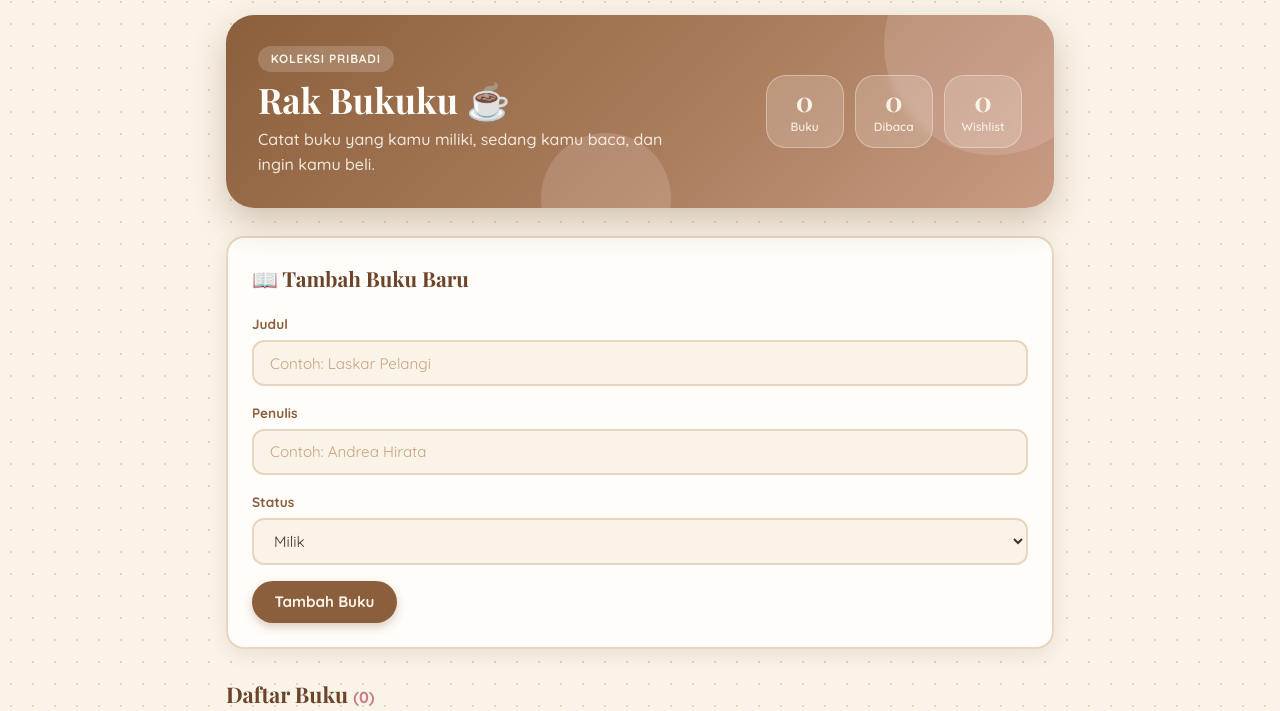
Test: Halaman Home (integrasi) › menghapus buku setelah konfirmasi di dialog
Type "Akan Dihapus" into the field labelled "Judul" at (640, 363), box [252, 340, 1028, 386]
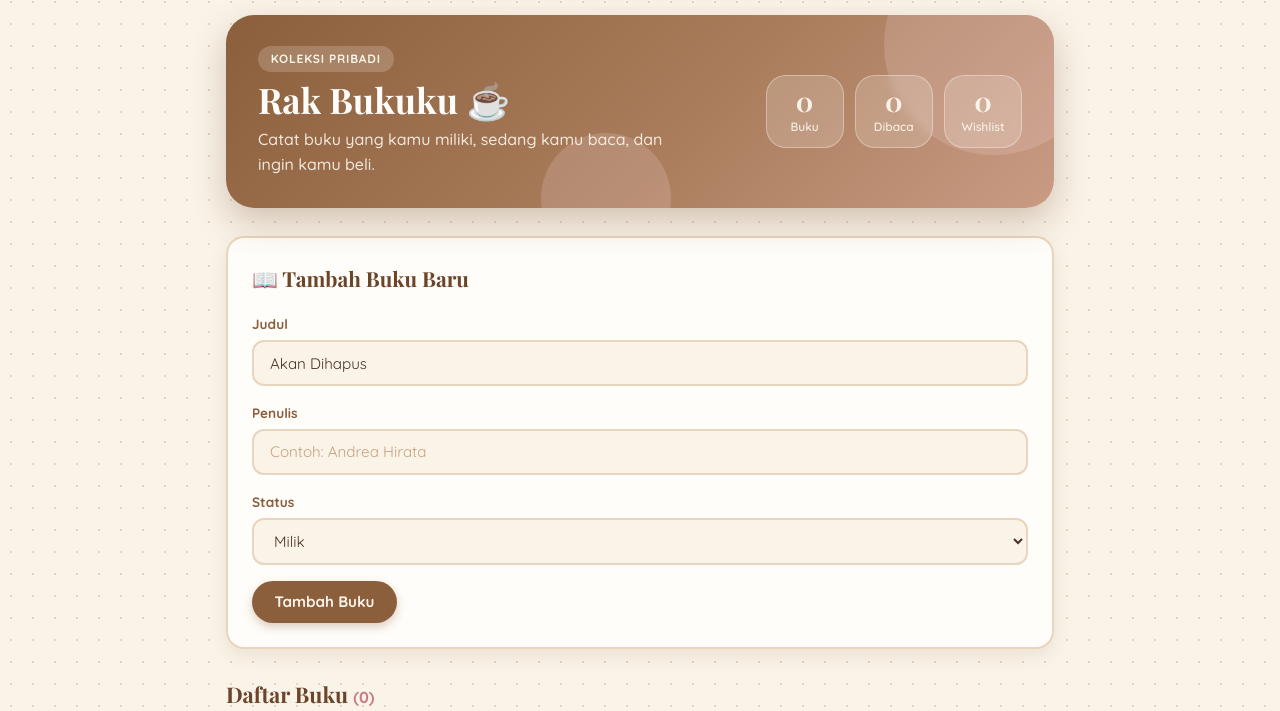
Type "Penulis B" into the field labelled "Penulis" at (640, 452), box [252, 429, 1028, 474]
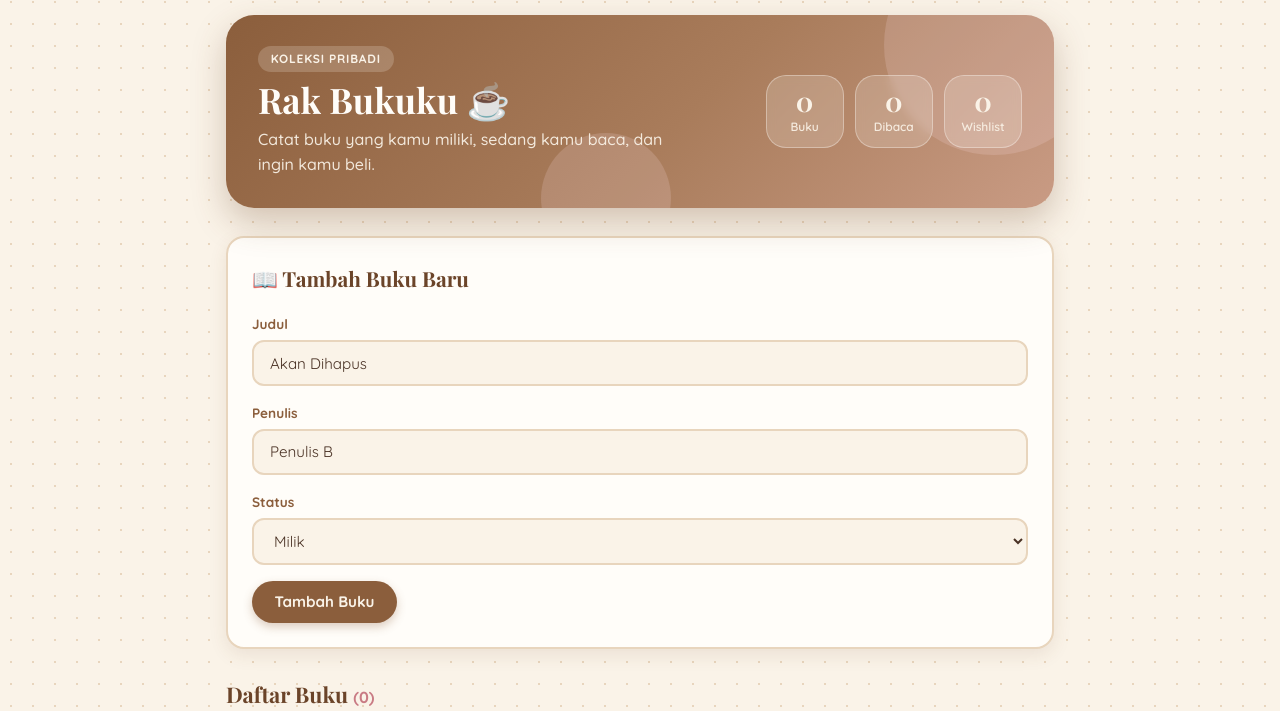
Select "Milik" in the dropdown labelled "Status" at (640, 542), box [252, 518, 1028, 565]
Click the button "Tambah Buku" at (324, 602), box [252, 581, 397, 623]
(page scrolled)
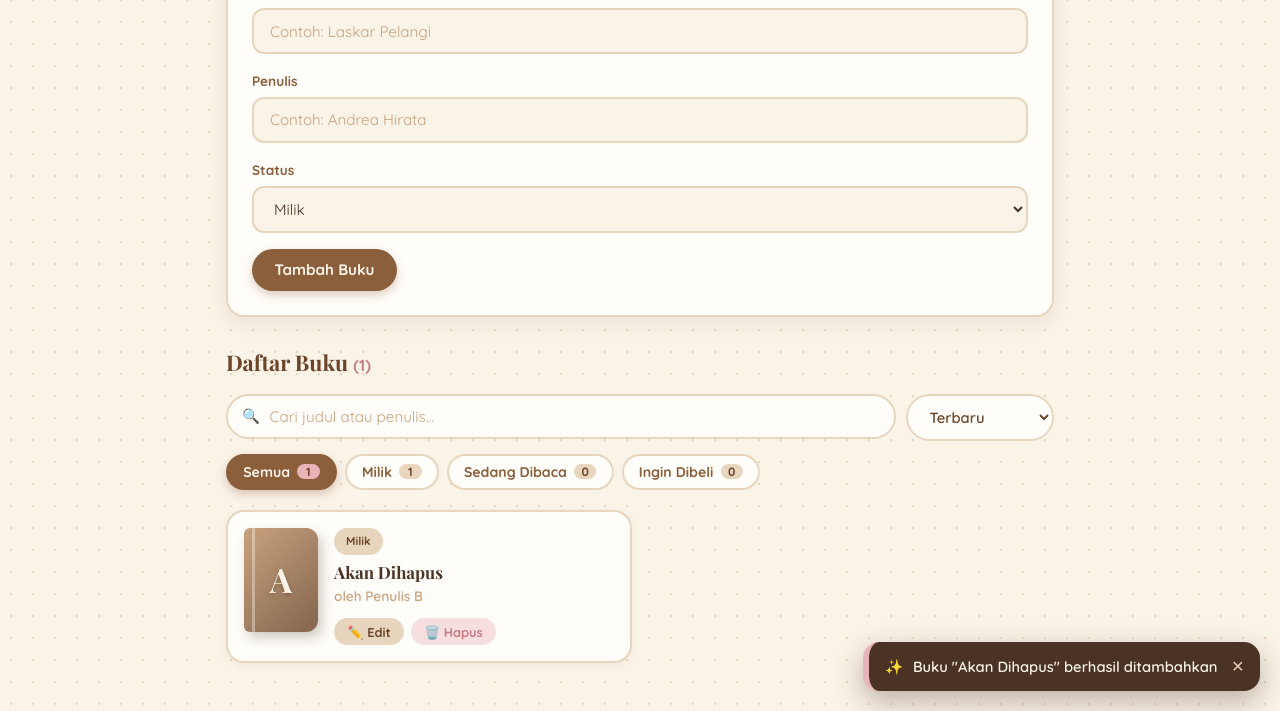
Click the button with aria-label "Hapus Akan Dihapus" at (454, 632), box [411, 618, 496, 645]
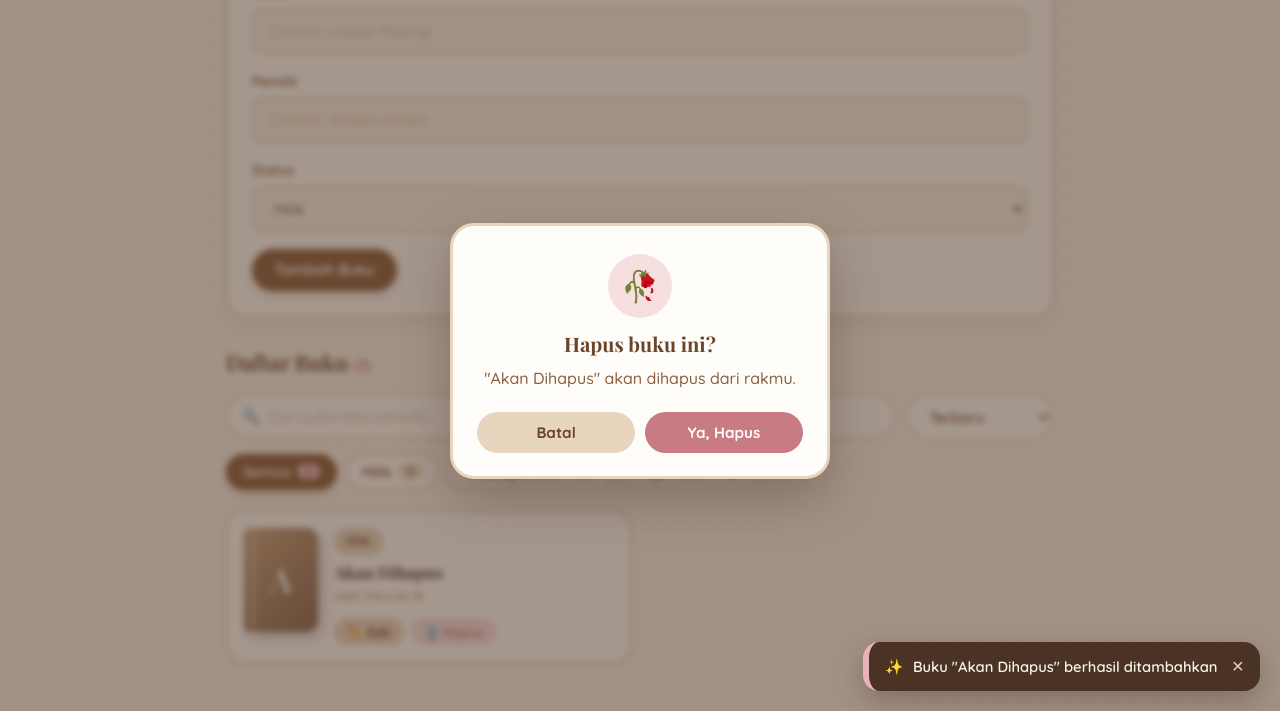
Result: the dialog is shown at [450, 223, 830, 479]
Click the button "Ya, Hapus" at (724, 433), box [645, 412, 803, 453]
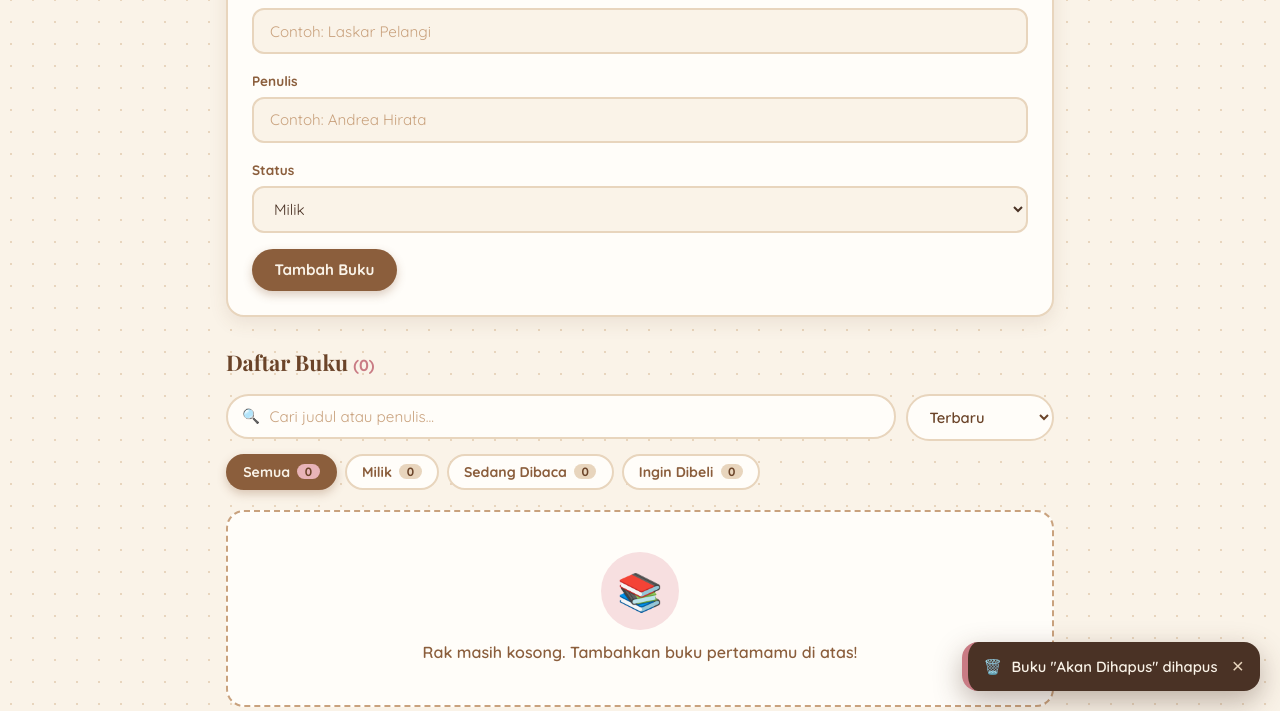
Result: the dialog is gone
